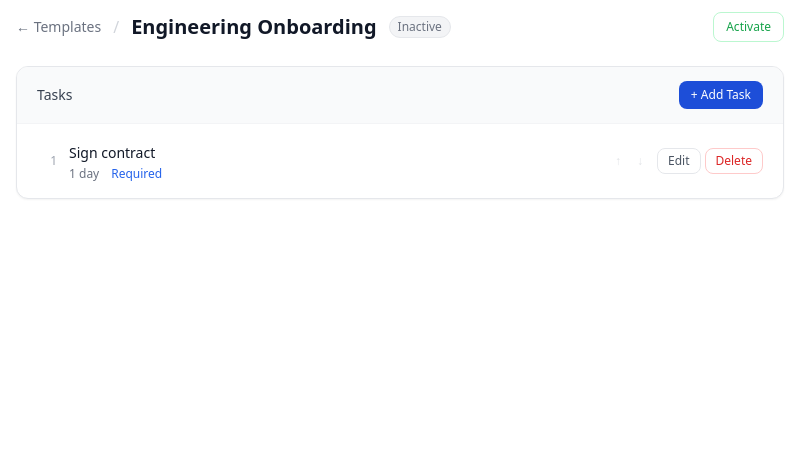
Test: TemplateDetailPage › opens add task form on button click
Expected: the text "Sign contract" is shown, [69,143,155,162]
Click the button "+ Add Task". click: (721, 95)
box: [679,81,763,109]
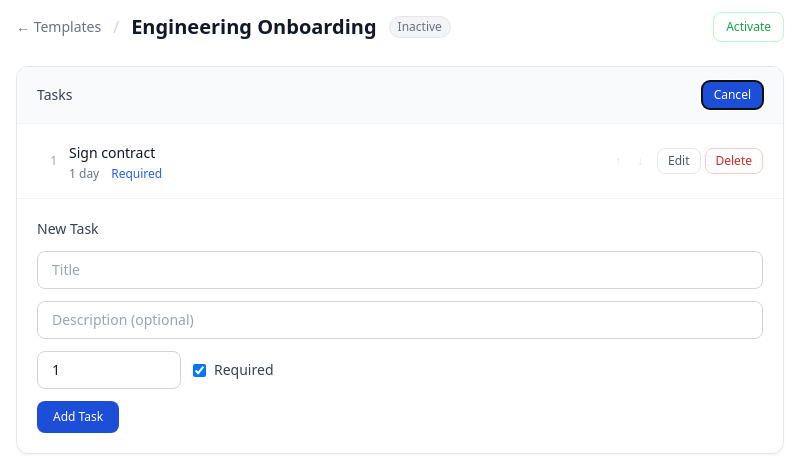
Now the field with placeholder "Title" is shown, box [37,251,763,289]
